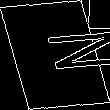N_W: (4, 31, 106, 79)
